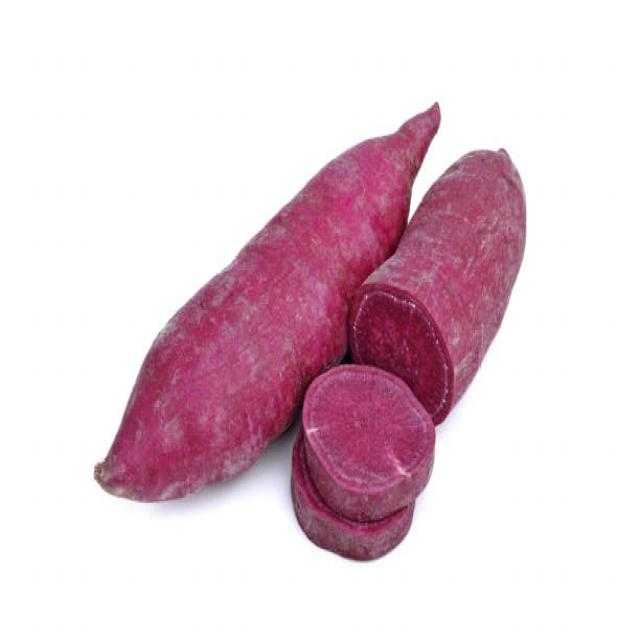sweet potato: (98, 102, 444, 503), (358, 144, 526, 428), (302, 360, 437, 513)
